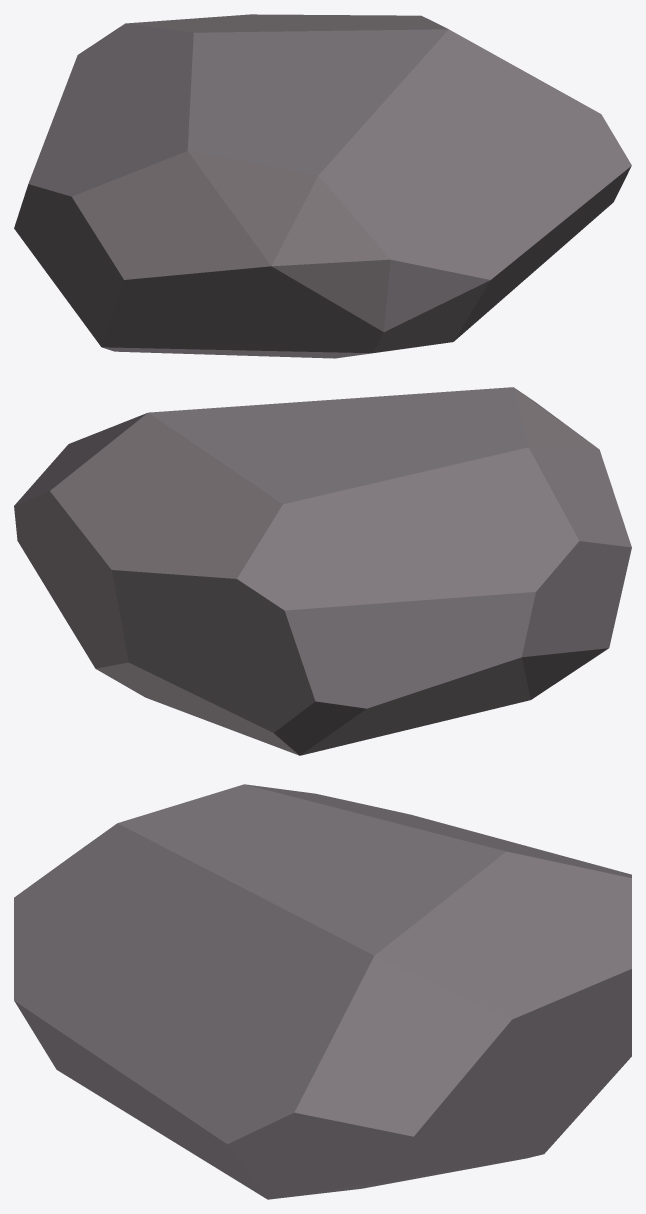
File: Rock_Round_m_07.fbx
3 renders of one model, top to bottom at view 1: azimuth 30°, elevation 25°; view 2: azimuth 150°, elevation 25°; view 3: azimuth 270°, elevation 25°, orthographic. The views are drawn at different scales.
Visible parts, largest first — view 1: Rock_Round_m_07; view 2: Rock_Round_m_07; view 3: Rock_Round_m_07.
Boxes of the visible parts, x1=… form: Rock_Round_m_07: x1=14, y1=14, x2=631, y2=358; Rock_Round_m_07: x1=14, y1=387, x2=631, y2=755; Rock_Round_m_07: x1=14, y1=784, x2=631, y2=1199.
Bounding box in the file's own units: 113 × 45.01 × 106.
